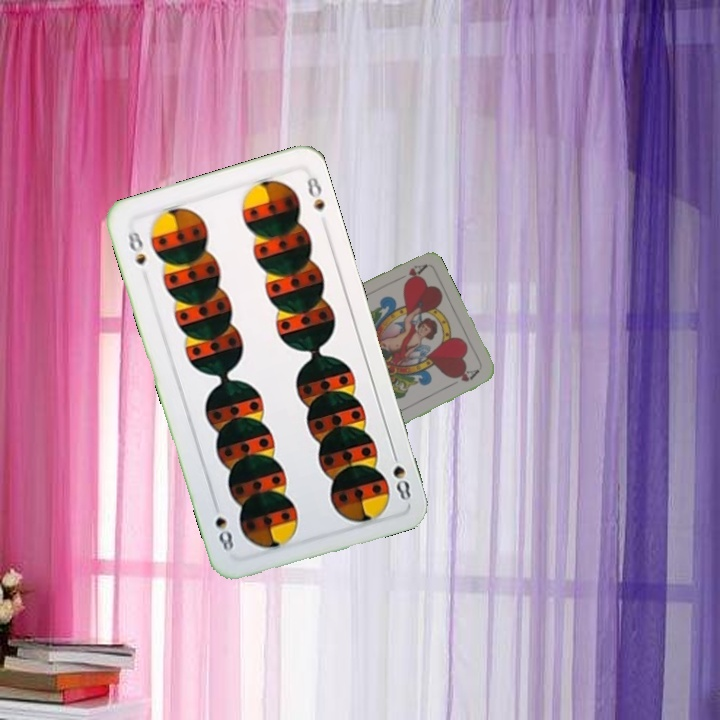HA: (389, 260, 428, 285)
S8: (387, 445, 414, 504), (124, 227, 149, 268)
